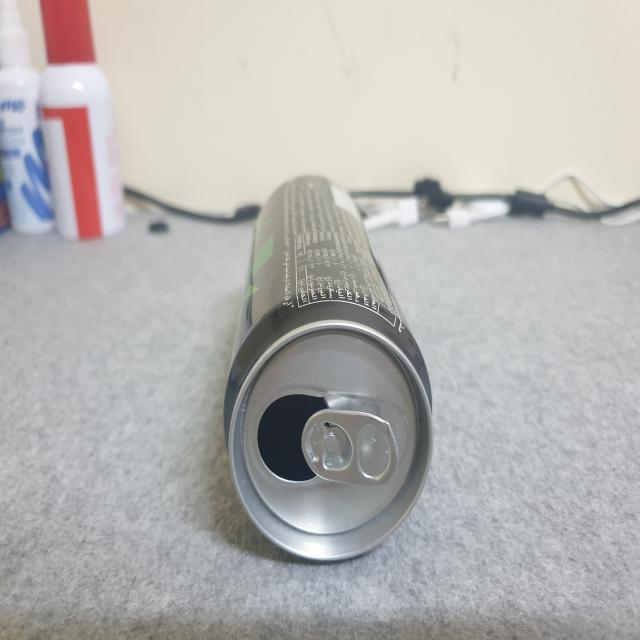non-organic waste: (220, 152, 442, 570)
